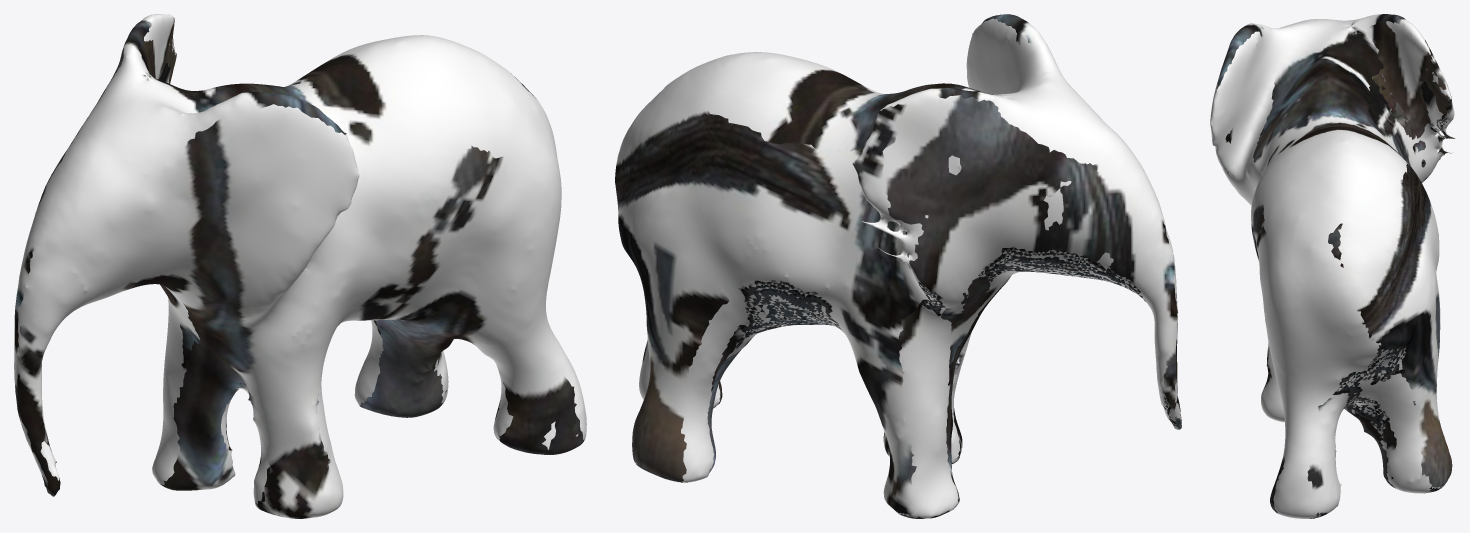
Rendered from model_New Qlone_20171023_184735172.gltf.
3 views of the same model, side by side, from view 1: azimuth 30°, elevation 25°; view 2: azimuth 150°, elevation 25°; view 3: azimuth 270°, elevation 25° (orthographic). The views are drawn at different scales.
Visible parts, largest first — view 1: node-0; view 2: node-0; view 3: node-0.
Boxes of the visible parts, left/top/right/bottom form: node-0: left=14, top=14, right=586, bottom=518; node-0: left=615, top=14, right=1181, bottom=518; node-0: left=1210, top=14, right=1455, bottom=518.
Bounding box in the file's own units: 68.53 × 53.5 × 32.85.
